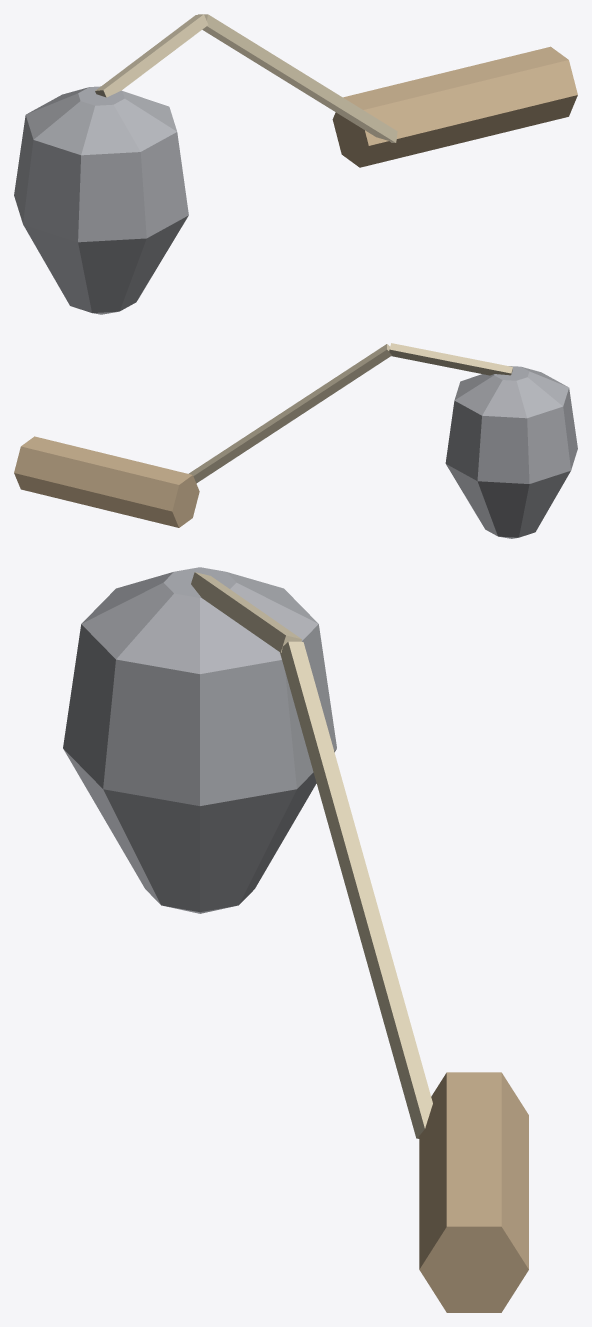
The model's file is prop-plumb-bob.fbx.
The picture shows the model from 3 angles, top to bottom: view 1: azimuth 30°, elevation 25°; view 2: azimuth 150°, elevation 25°; view 3: azimuth 270°, elevation 25°; orthographic projection. The views are drawn at different scales.
Visible parts, largest first — view 1: prop-plumb-bob; view 2: prop-plumb-bob; view 3: prop-plumb-bob.
Boxes of the visible parts, x1,y1,x2,y2 form: prop-plumb-bob: (14, 14, 577, 314); prop-plumb-bob: (14, 343, 577, 538); prop-plumb-bob: (63, 567, 528, 1312).
Bounding box in the file's own units: 24 × 9.06 × 10.2.
